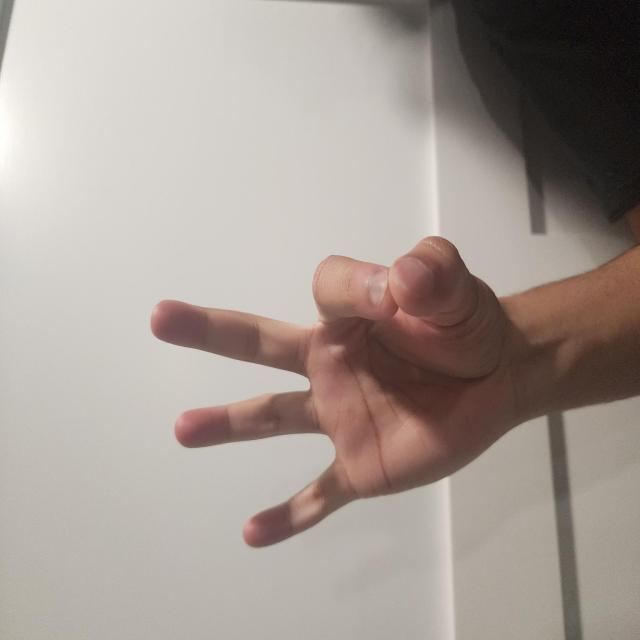F: (63, 196, 310, 640)
